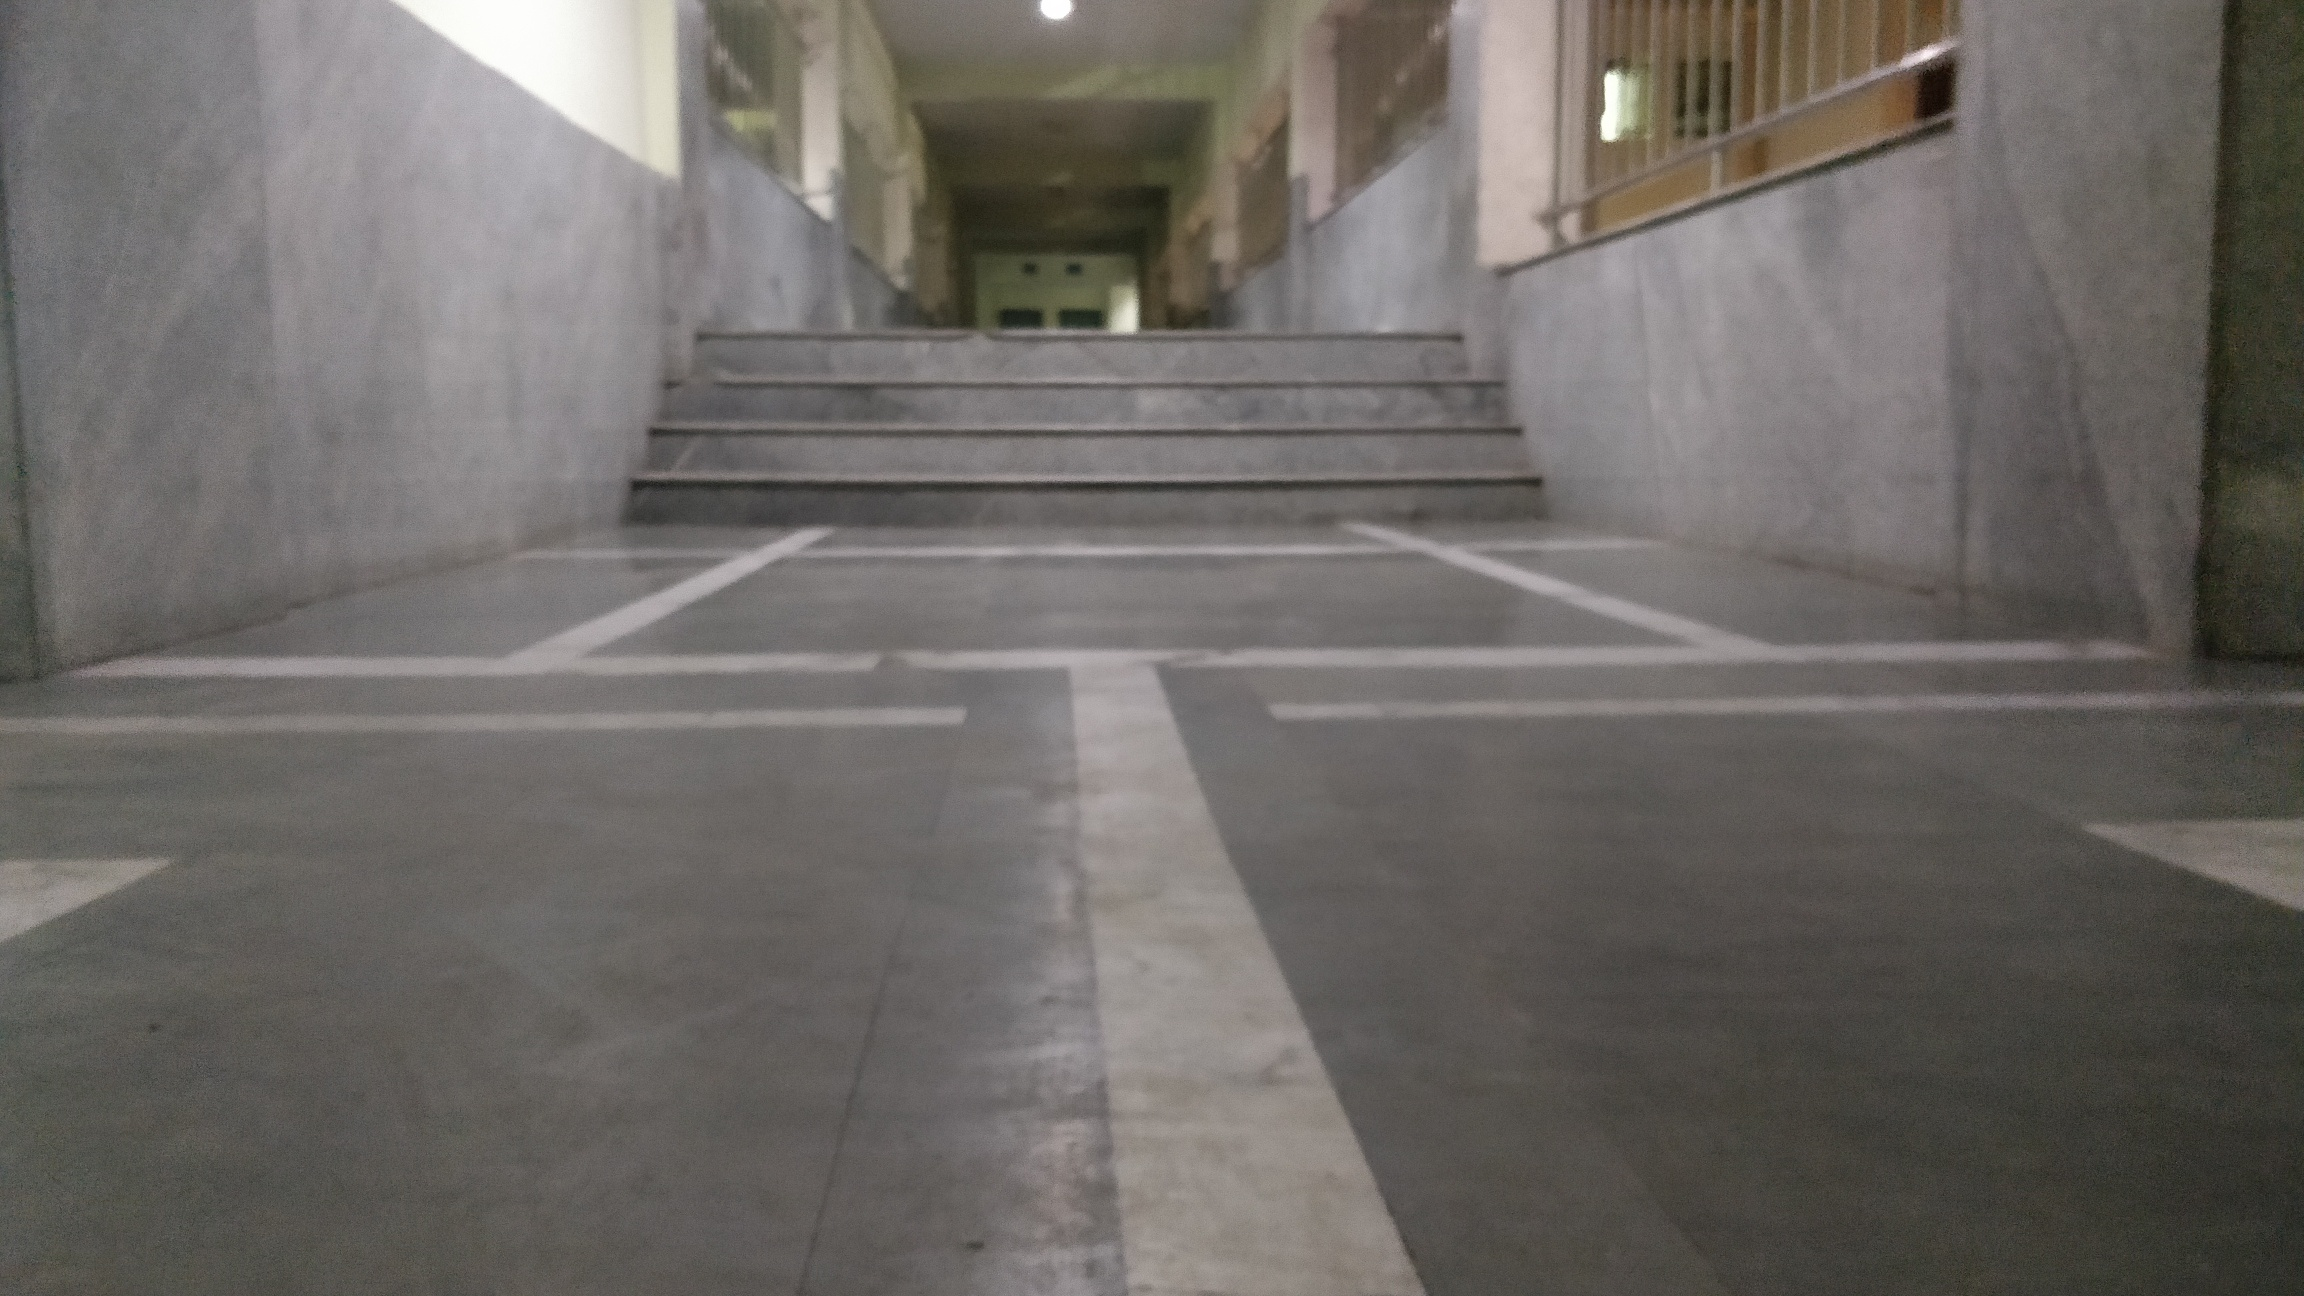stairs_up: (646, 316, 1532, 521)
